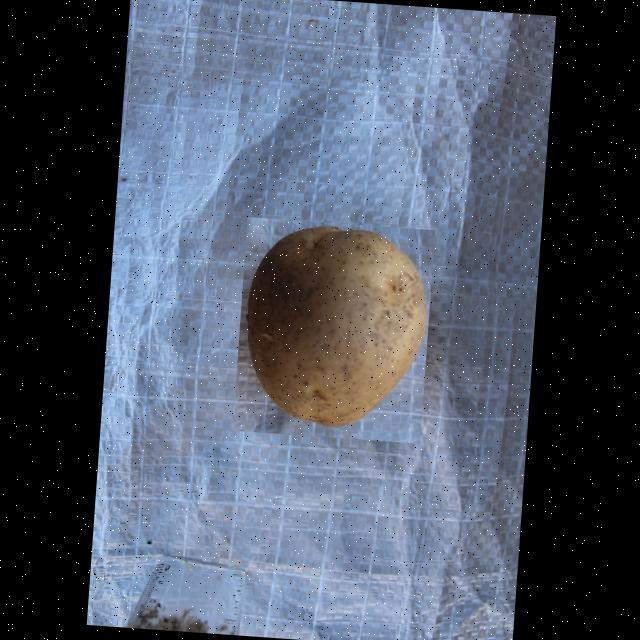Diseased-fungal potato: (232, 216, 434, 444)
